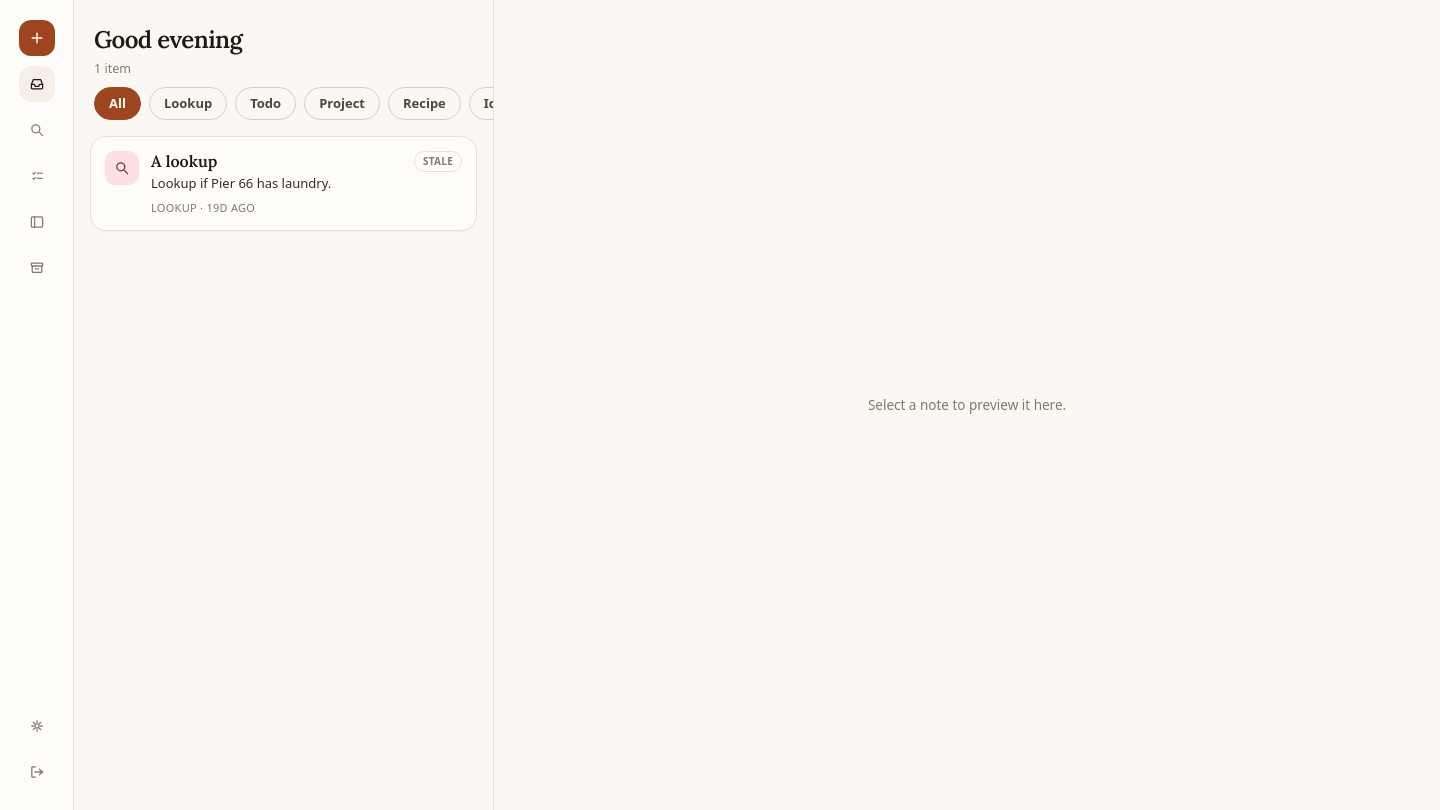
Test: Inbox › desktop: clears the selection and reloads the list once an item is actioned
Click the text "A lookup": click(184, 161) 151,151 -> 217,171
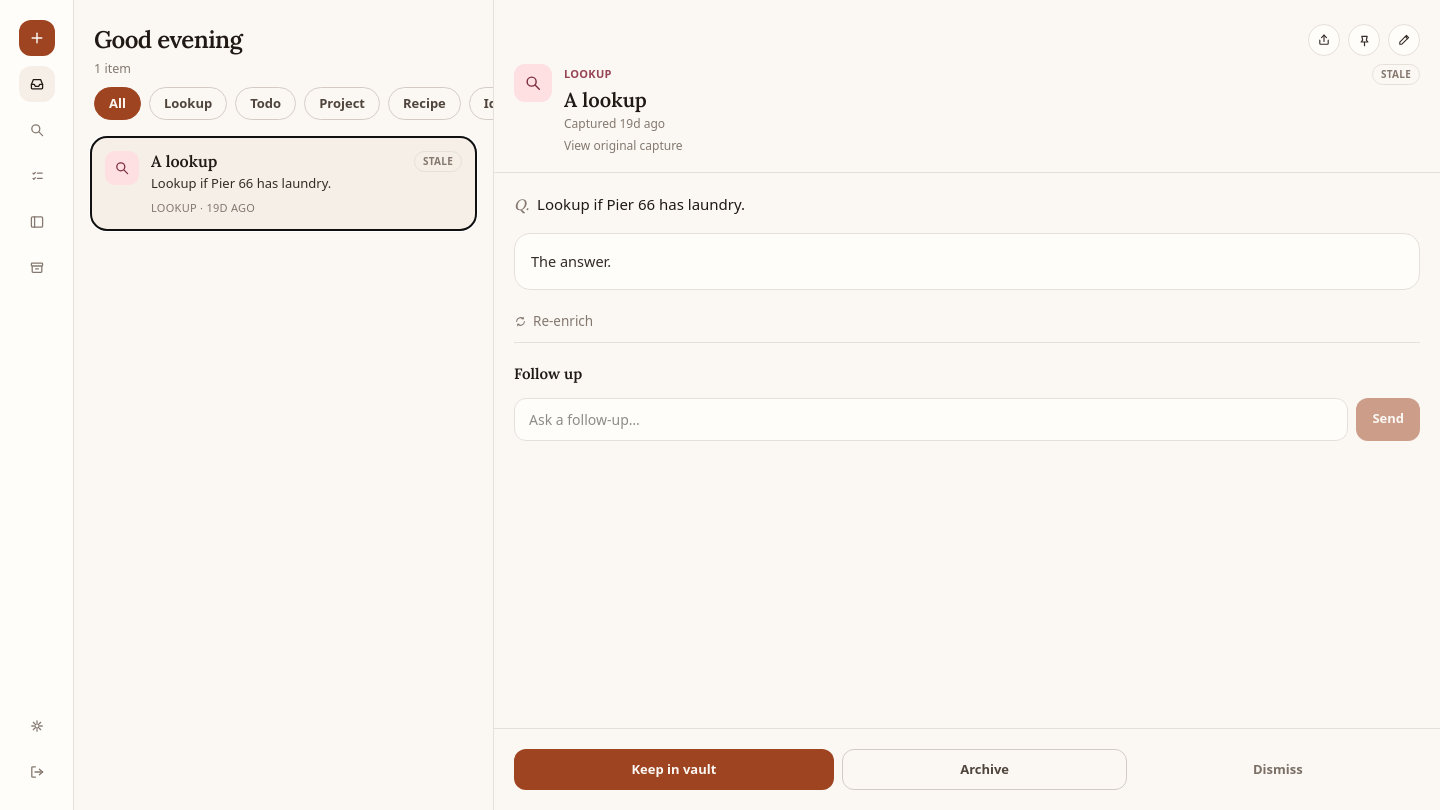
Expected: the text "The answer." is shown, 514,232 -> 1420,290
Click the button "Archive": click(985, 769) 842,748 -> 1127,790
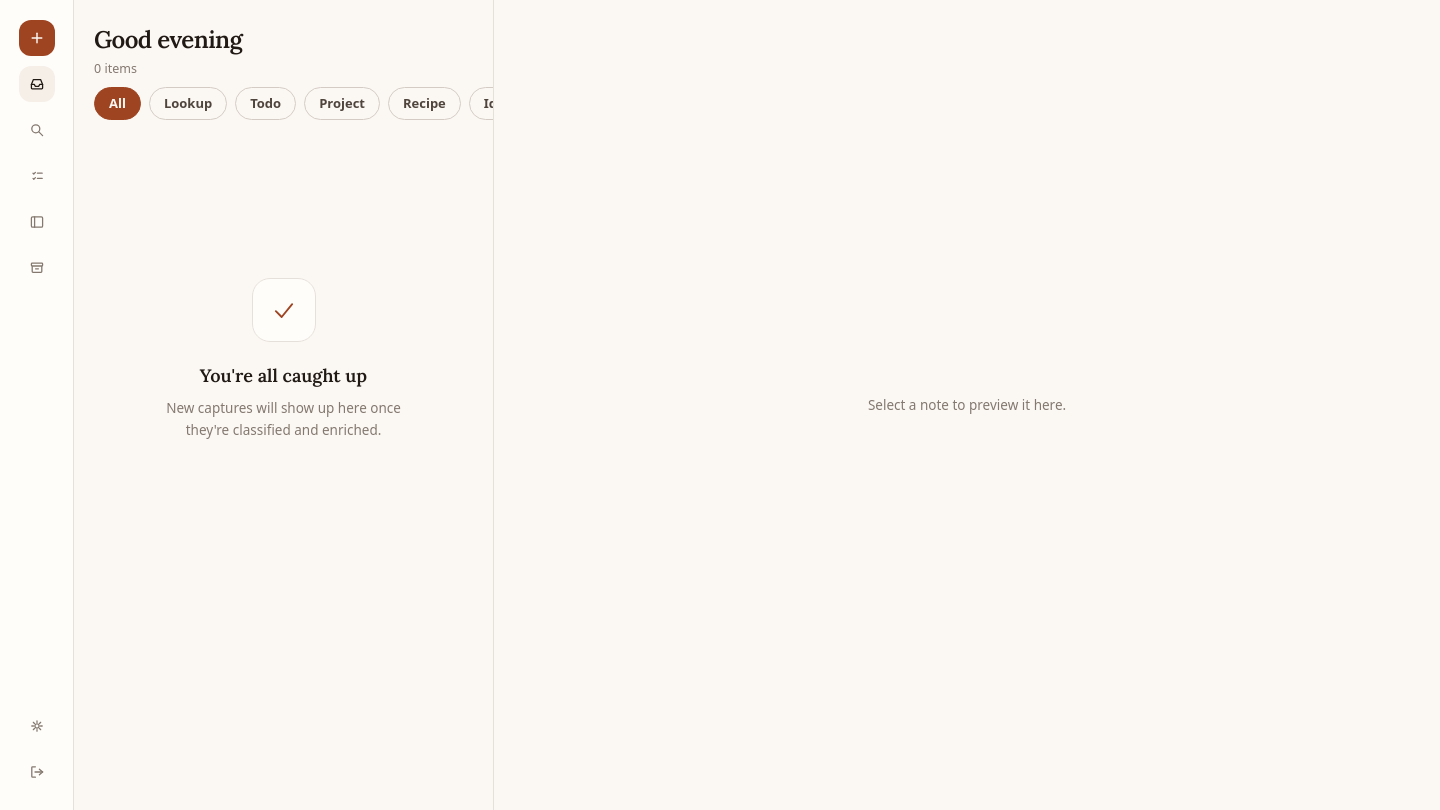
Expected: the text "Select a note to preview it here." is shown, 868,396 -> 1066,414
